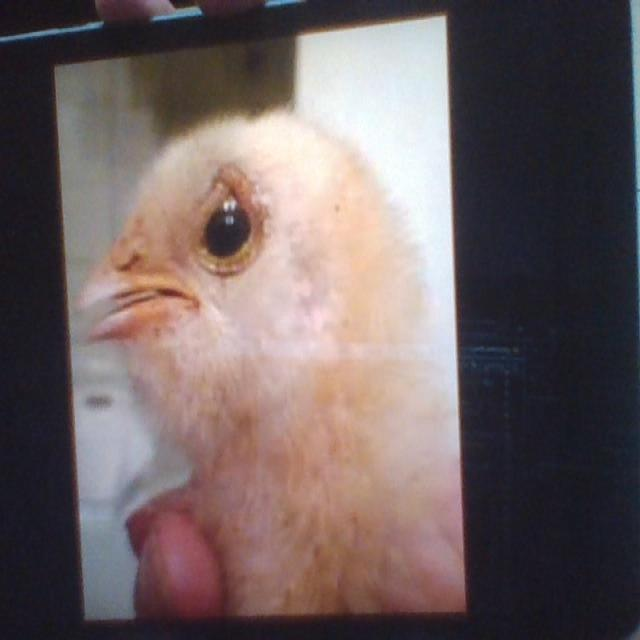Sick: (79, 107, 471, 621)
